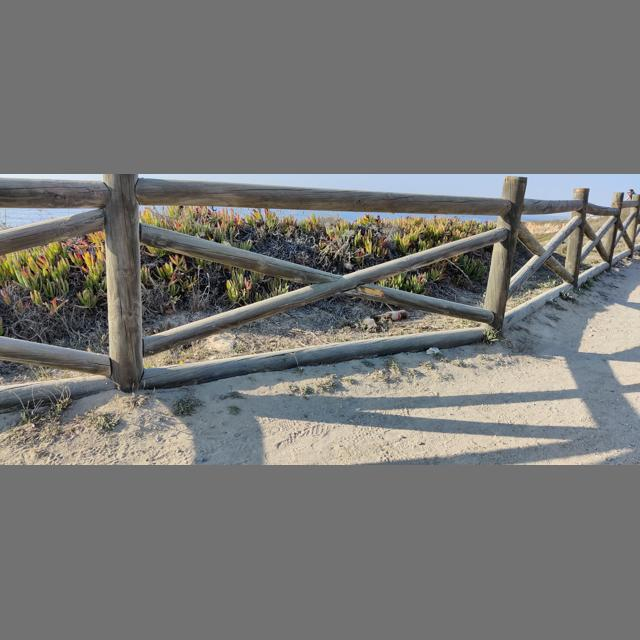litter: (374, 310, 407, 321), (363, 318, 375, 330), (427, 348, 441, 355)
